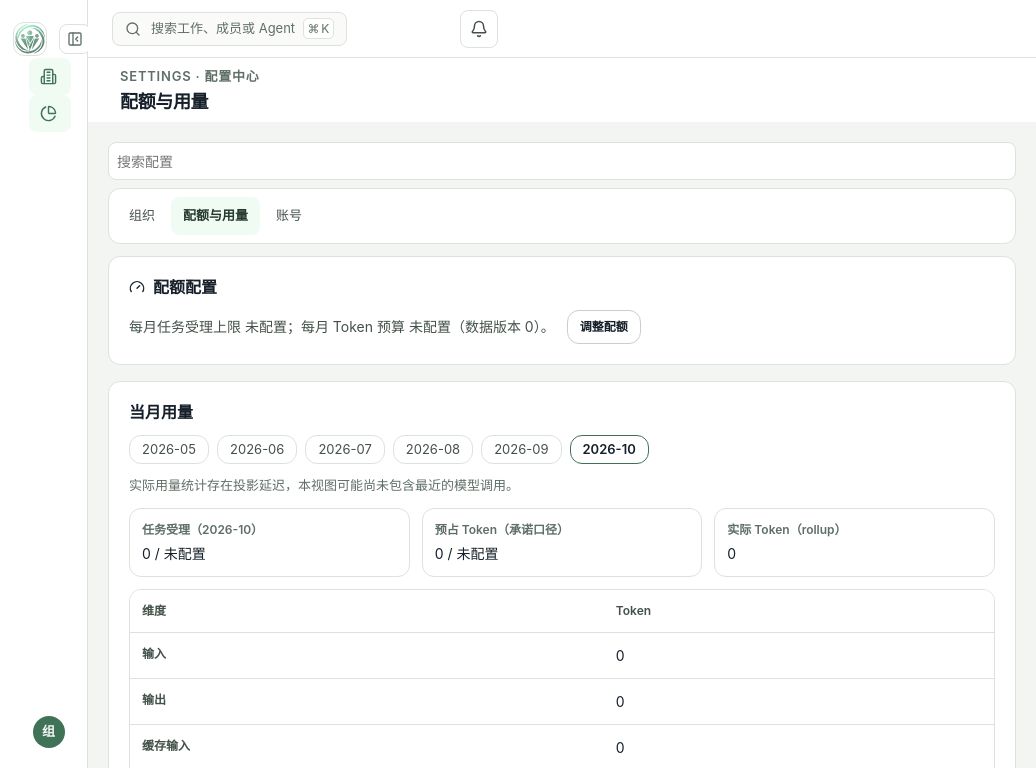
Scenario: QuotaSettingsPage › explains a 409 conflict and re-reads so the next save quotes the persisted version
The width and height of the screenshot is (1036, 768).
Click the button "调整配额": [604, 327] box [567,310,641,344]
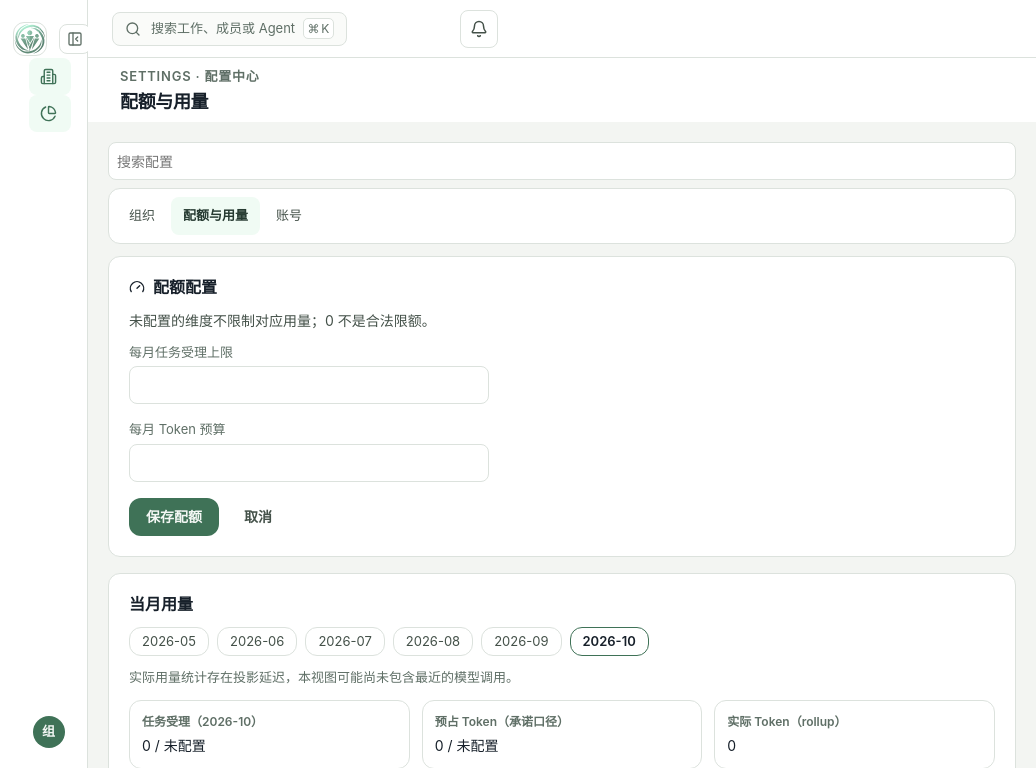
In the number field labelled "每月任务受理上限": [309, 385] box [129,366,489,404], type "5"
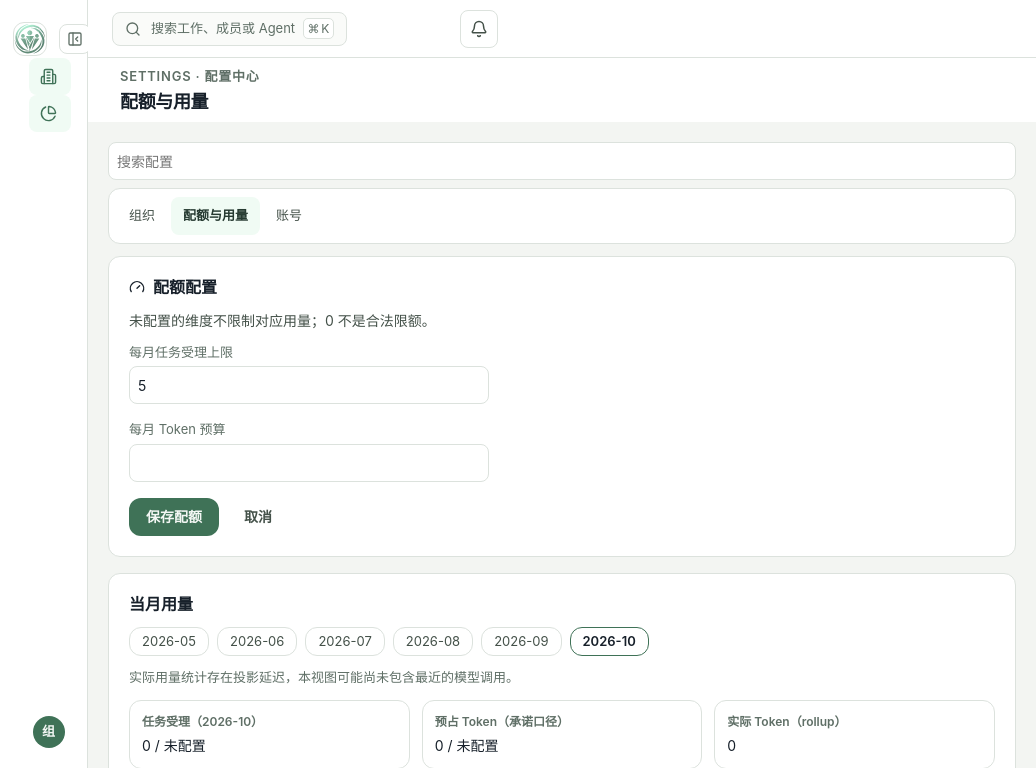
Submit the form, box [129,344,489,536]
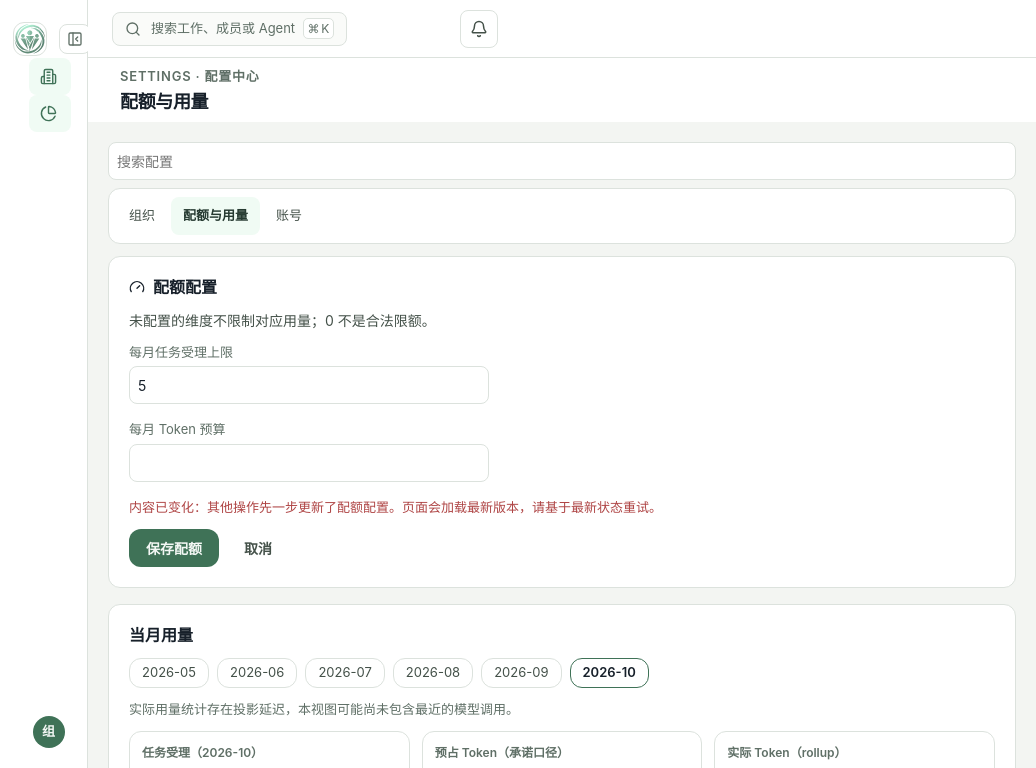
Check: the text "内容已变化" is shown, box [129,499,662,515]
